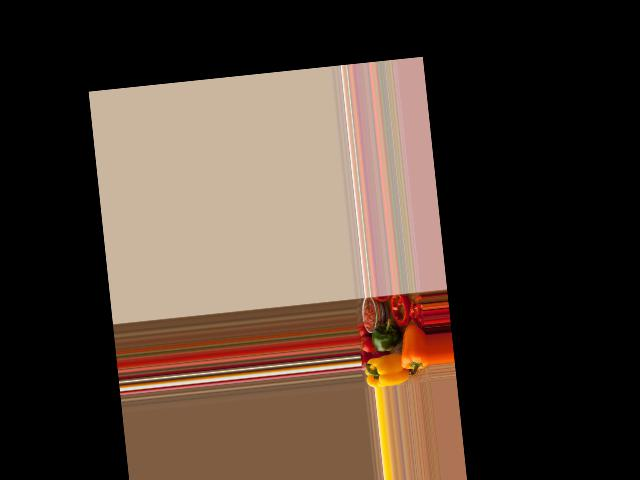bell_pepper: (364, 352, 402, 387)
